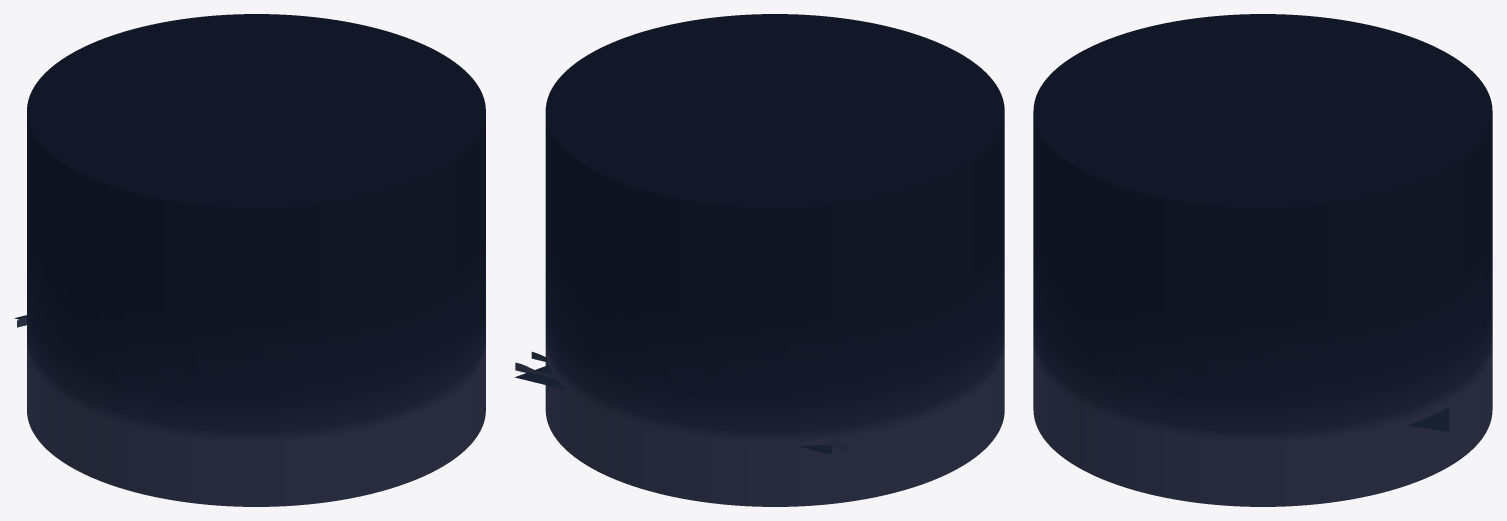
Rendered from twin-peaks.glb.
3 renders of one model, left to right at view 1: azimuth 30°, elevation 25°; view 2: azimuth 150°, elevation 25°; view 3: azimuth 270°, elevation 25°, orthographic.
Parts seen in each view (by area): view 1: TwinPeaks_Sky; view 2: TwinPeaks_Sky, TwinPeaks_City_and_Landmarks; view 3: TwinPeaks_Sky, TwinPeaks_City_and_Landmarks.
Part boxes in pixels (x1,y1,x2,y2): TwinPeaks_Sky: (27,14,485,506); TwinPeaks_Sky: (545,14,1004,506); TwinPeaks_City_and_Landmarks: (515,352,846,454); TwinPeaks_Sky: (1033,14,1492,506); TwinPeaks_City_and_Landmarks: (1407,407,1449,431).
Bounding box in the file's own units: 6400 × 4600 × 6400.
